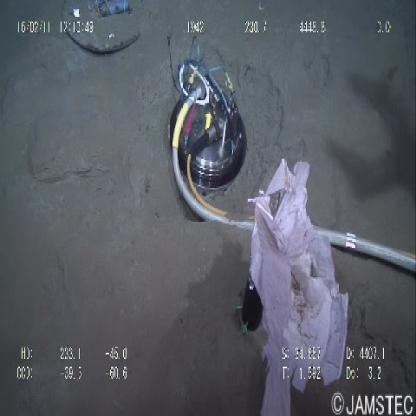Rov: (163, 20, 255, 233)
Rác: (243, 152, 352, 416)
